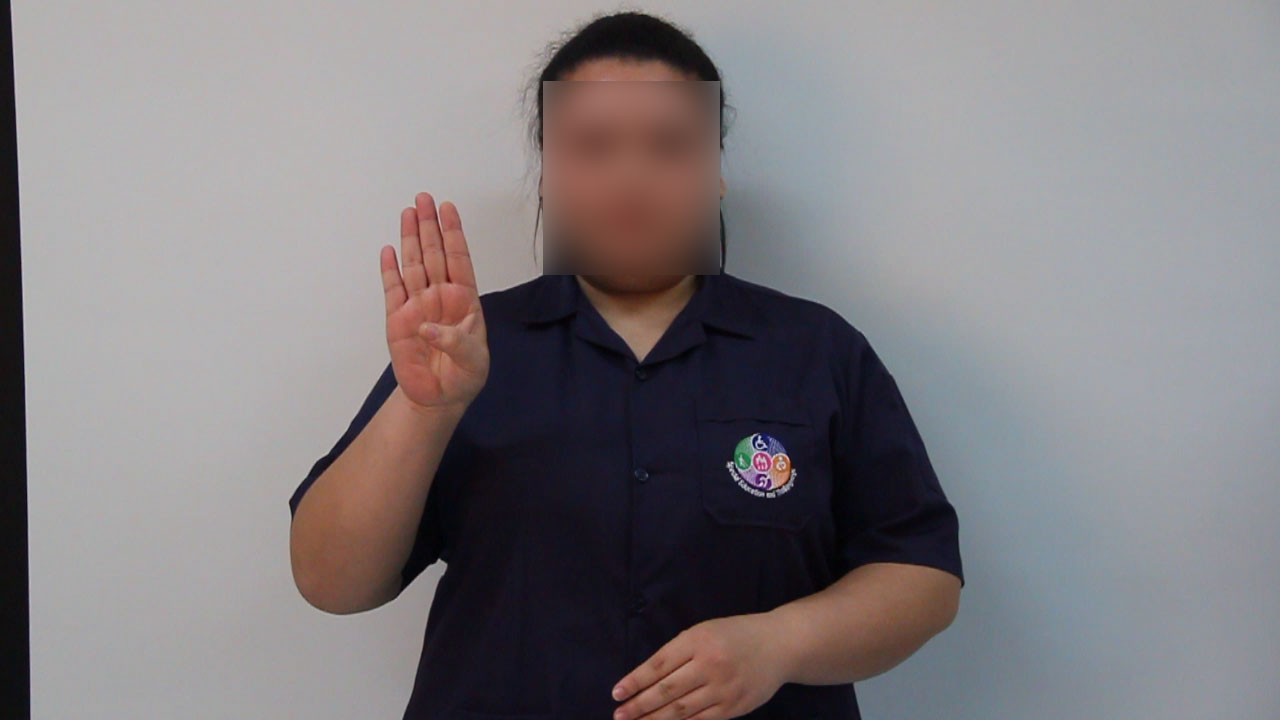bor: (361, 176, 510, 430)
